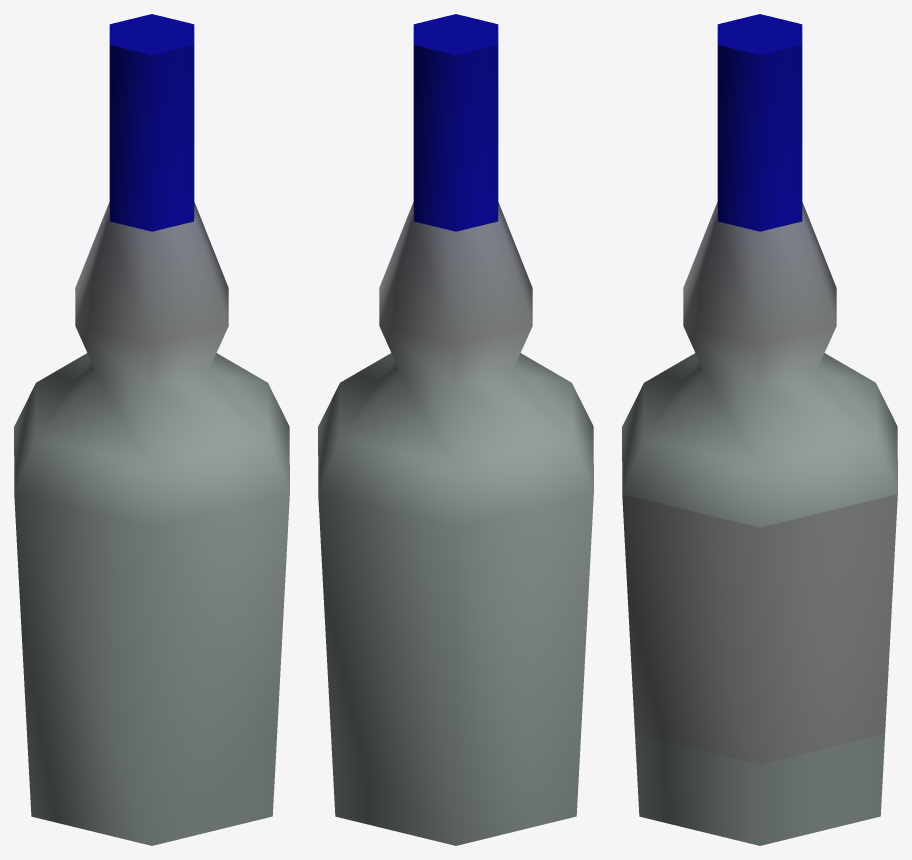
3 views of the same model, side by side, from view 1: azimuth 30°, elevation 25°; view 2: azimuth 150°, elevation 25°; view 3: azimuth 270°, elevation 25° (orthographic).
Parts seen in each view (by area): view 1: G:\FFXIV-MapTools\exports\w1f4\bg\ffxiv\wil_w1\fld\common\bg (×2); view 2: G:\FFXIV-MapTools\exports\w1f4\bg\ffxiv\wil_w1\fld\common\bg (×2); view 3: G:\FFXIV-MapTools\exports\w1f4\bg\ffxiv\wil_w1\fld\common\bg (×2).
Boxes of the visible parts, left/top/right/bottom form: G:\FFXIV-MapTools\exports\w1f4\bg\ffxiv\wil_w1\fld\common\bg (×2): left=14, top=14, right=289, bottom=845; G:\FFXIV-MapTools\exports\w1f4\bg\ffxiv\wil_w1\fld\common\bg (×2): left=318, top=14, right=593, bottom=845; G:\FFXIV-MapTools\exports\w1f4\bg\ffxiv\wil_w1\fld\common\bg (×2): left=622, top=14, right=897, bottom=845.
Bounding box in the file's own units: 0.1492 × 0.3892 × 0.1293.
